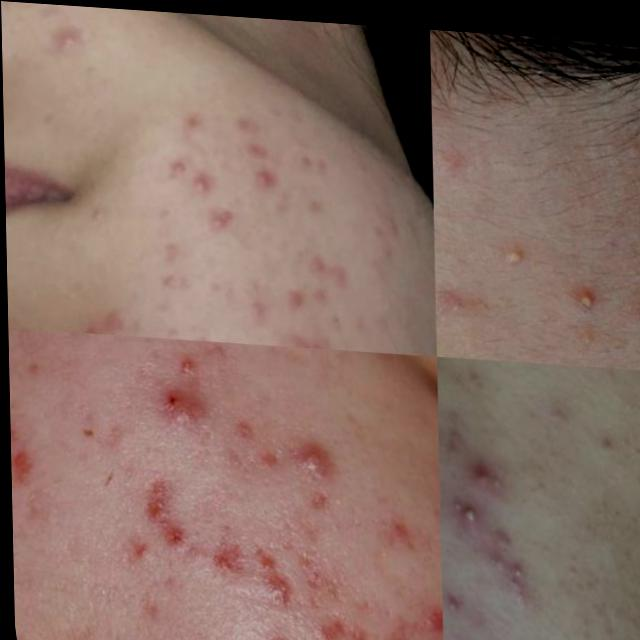8: (214, 98, 284, 161), (142, 367, 208, 433), (41, 12, 96, 69), (362, 205, 408, 269), (146, 234, 193, 296), (297, 240, 352, 292), (65, 301, 127, 334), (405, 580, 439, 640), (240, 153, 277, 202), (292, 142, 329, 180), (233, 282, 268, 322), (174, 102, 209, 141), (293, 319, 345, 345), (365, 616, 420, 640), (481, 517, 515, 555), (276, 280, 310, 315), (501, 629, 554, 640), (194, 629, 238, 640)
9: (271, 428, 324, 477), (463, 449, 505, 492), (568, 273, 608, 314), (191, 202, 235, 234), (484, 229, 523, 265), (447, 489, 482, 526), (185, 167, 219, 202), (166, 152, 197, 181)
blackheads: (136, 457, 190, 555), (191, 516, 247, 568), (295, 530, 331, 596), (252, 526, 281, 597), (8, 438, 40, 500)
